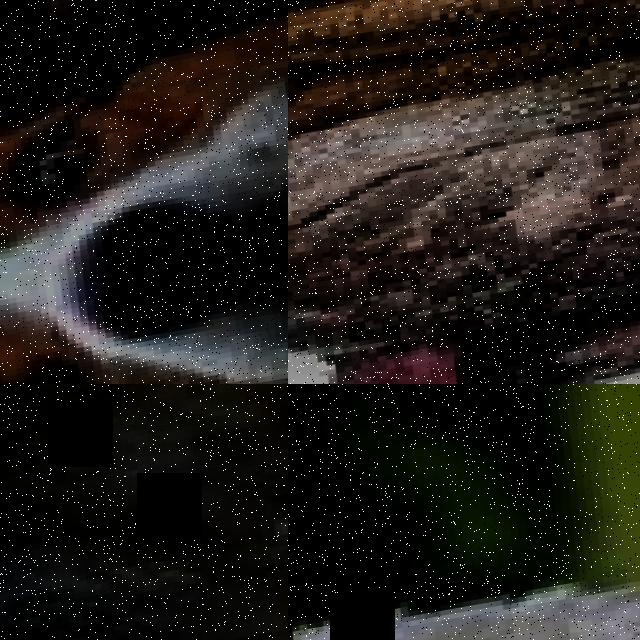dog: (288, 0, 640, 384), (0, 0, 288, 384), (288, 504, 640, 640)
wolf: (0, 384, 288, 640)
